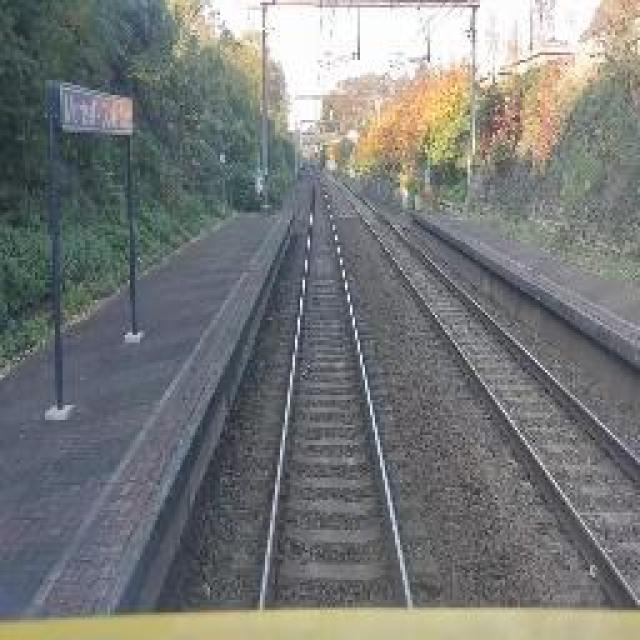rail: (224, 162, 440, 605)
